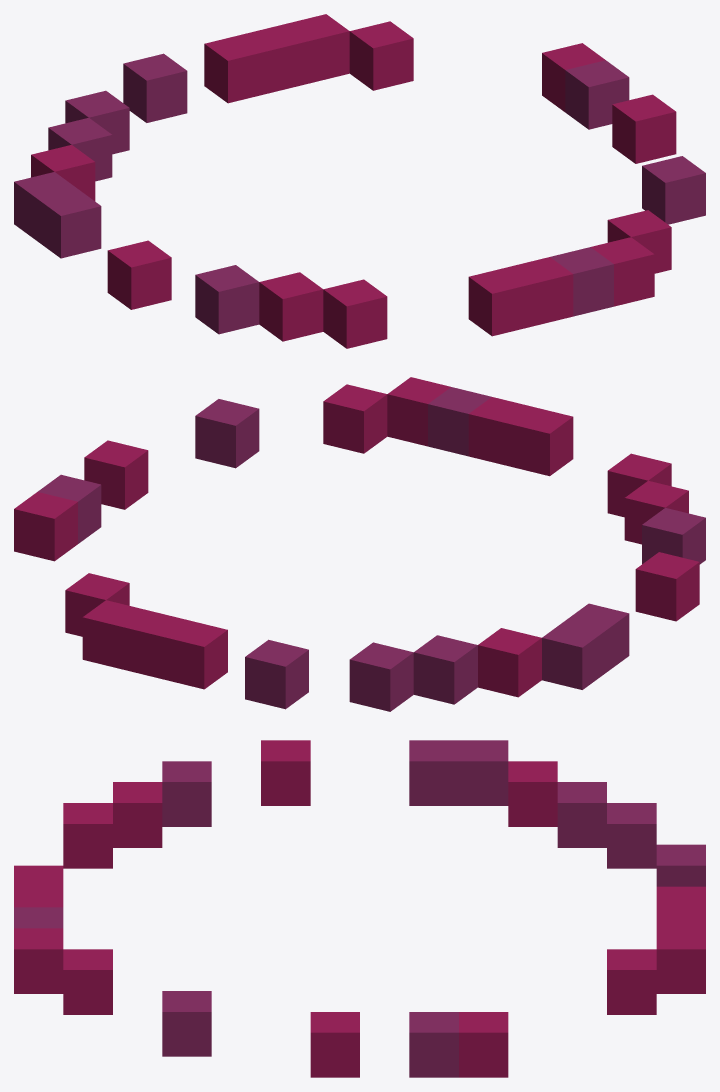
The model's file is anelsaturno-rosa1.obj.
The picture shows the model from 3 angles, top to bottom: view 1: azimuth 30°, elevation 25°; view 2: azimuth 150°, elevation 25°; view 3: azimuth 270°, elevation 25°; orthographic projection. The views are drawn at different scales.
Size of the model in its own units: 1.4 by 0.1 by 1.4.
1 material, 1 textured.
